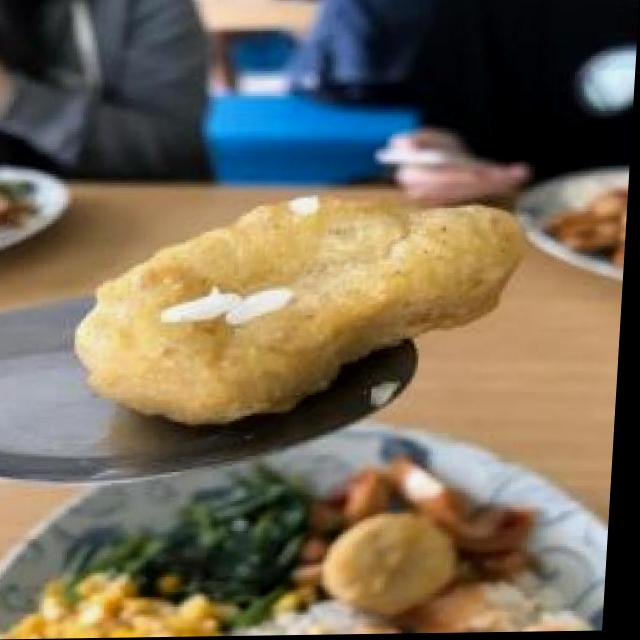chicken_nuggets: (72, 194, 541, 432)
